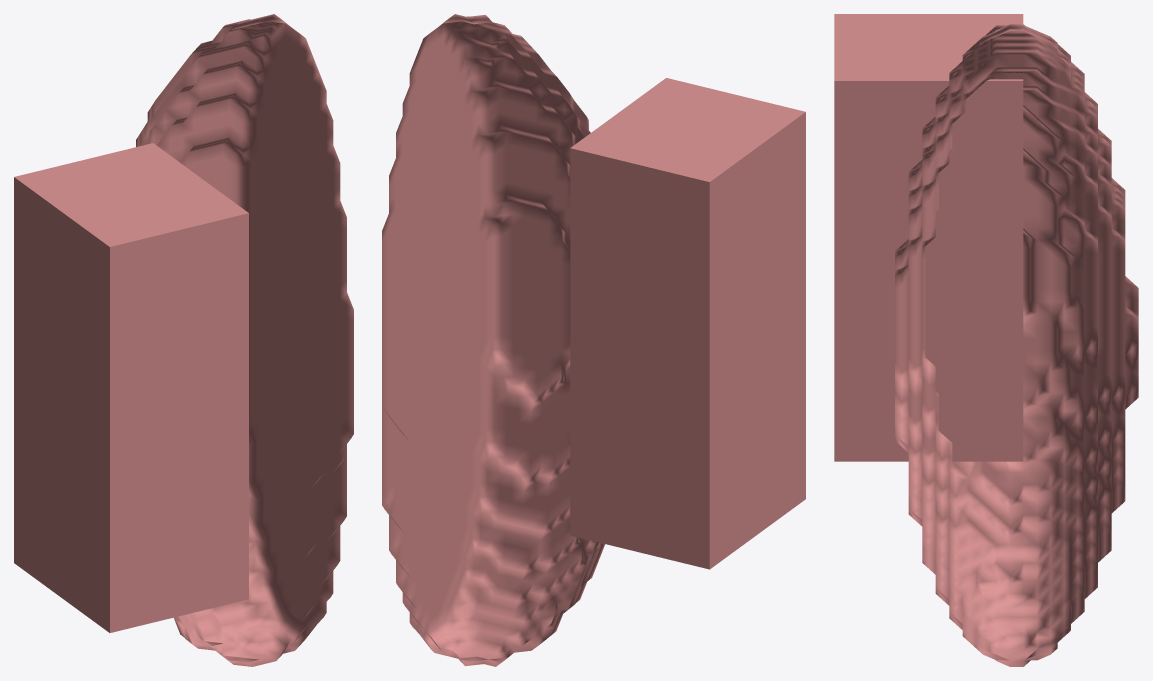
Rendered from 199543_occ.glb.
3 views of the same model, side by side, from view 1: azimuth 30°, elevation 25°; view 2: azimuth 150°, elevation 25°; view 3: azimuth 270°, elevation 25° (orthographic).
Visible parts, largest first — view 1: world; view 2: world; view 3: world.
Part boxes in pixels (x1=…): world: x1=14, y1=14, x2=353, y2=666; world: x1=382, y1=14, x2=805, y2=666; world: x1=834, y1=14, x2=1138, y2=666.
Bounding box in the file's own units: 2.34 × 5.1 × 2.25.
